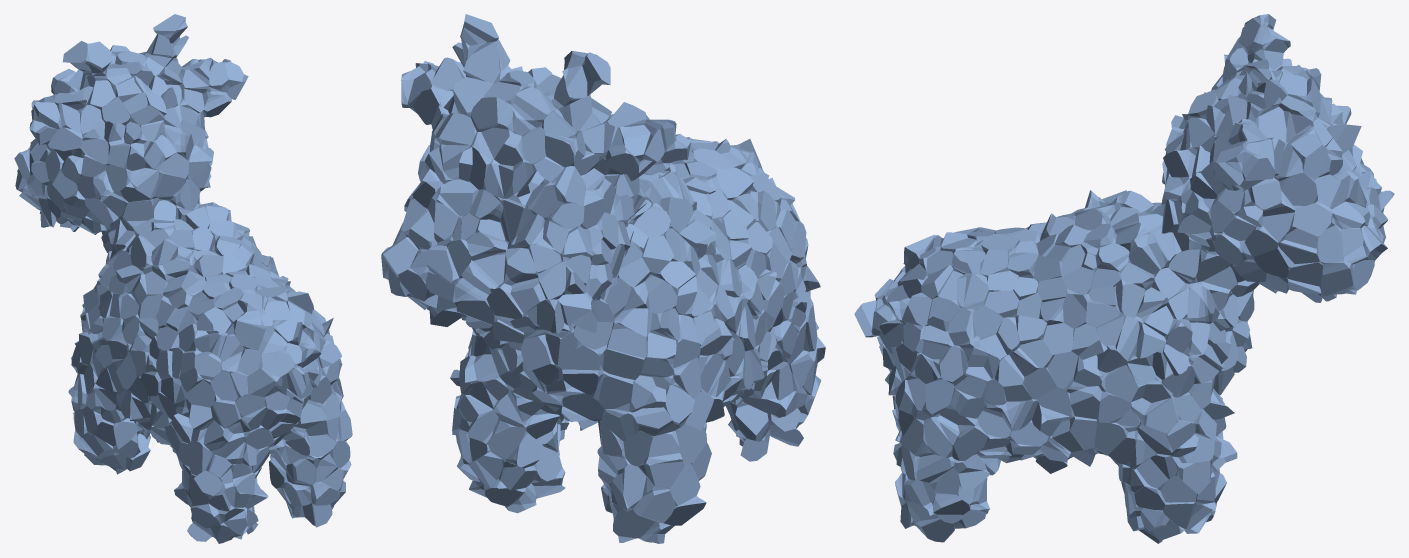
Rendered from cow_0.5pct_voromesh.glb.
3 renders of one model, left to right at view 1: azimuth 30°, elevation 25°; view 2: azimuth 150°, elevation 25°; view 3: azimuth 270°, elevation 25°, orthographic. The views are drawn at different scales.
Parts seen in each view (by area): view 1: cow_noise_0.5pct_voromesh.obj; view 2: cow_noise_0.5pct_voromesh.obj; view 3: cow_noise_0.5pct_voromesh.obj.
Part boxes in pixels (bbox=[...]): cow_noise_0.5pct_voromesh.obj: bbox=[14, 14, 352, 543]; cow_noise_0.5pct_voromesh.obj: bbox=[381, 14, 825, 543]; cow_noise_0.5pct_voromesh.obj: bbox=[854, 14, 1394, 543].
Size of the model in its own units: 0.5593 by 1.02 by 1.04.
